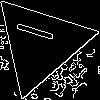I: (15, 18, 64, 47)
